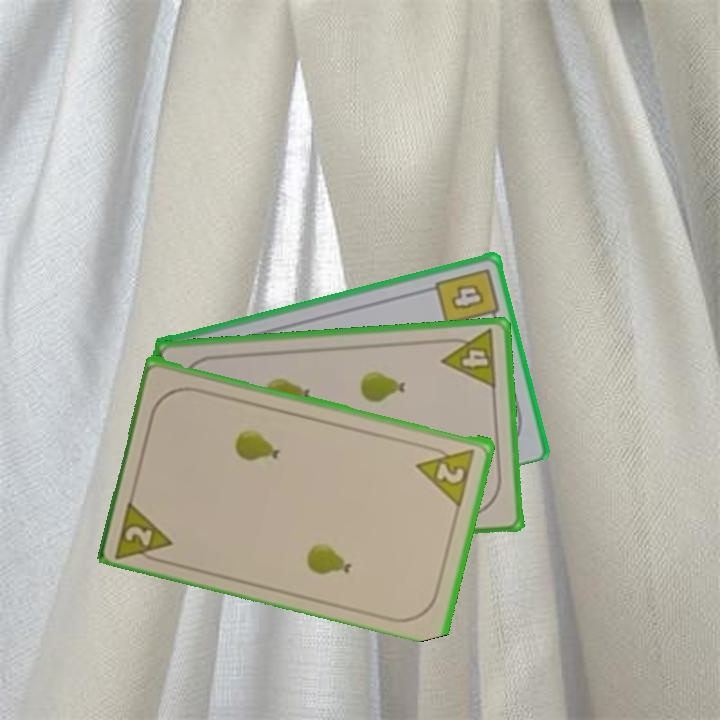2p: (112, 494, 177, 567), (413, 442, 478, 507)
4b: (431, 264, 502, 328)
4p: (437, 326, 500, 391)
